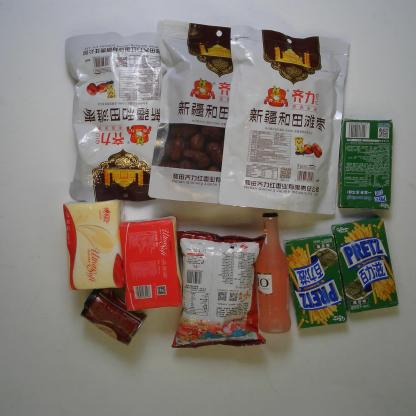Alcohol: (255, 208, 292, 337)
Canned Food: (74, 286, 150, 347)
Dessert: (324, 211, 403, 317), (282, 230, 351, 334), (336, 114, 400, 214)
Dried Food: (214, 22, 355, 216), (63, 28, 173, 203), (148, 14, 246, 207)
Puffed Food: (169, 225, 271, 352)
Tissue: (112, 213, 186, 314), (60, 197, 131, 292)
